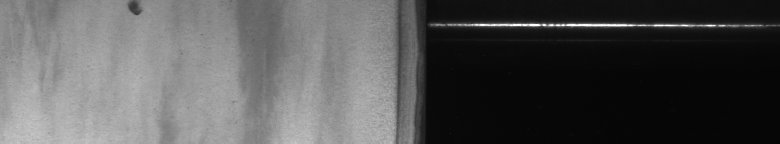fi: (121, 4, 148, 23)
